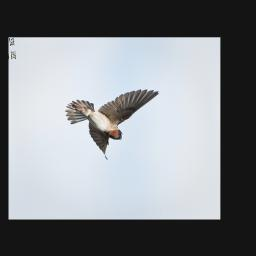Swallow: (60, 87, 168, 163)
